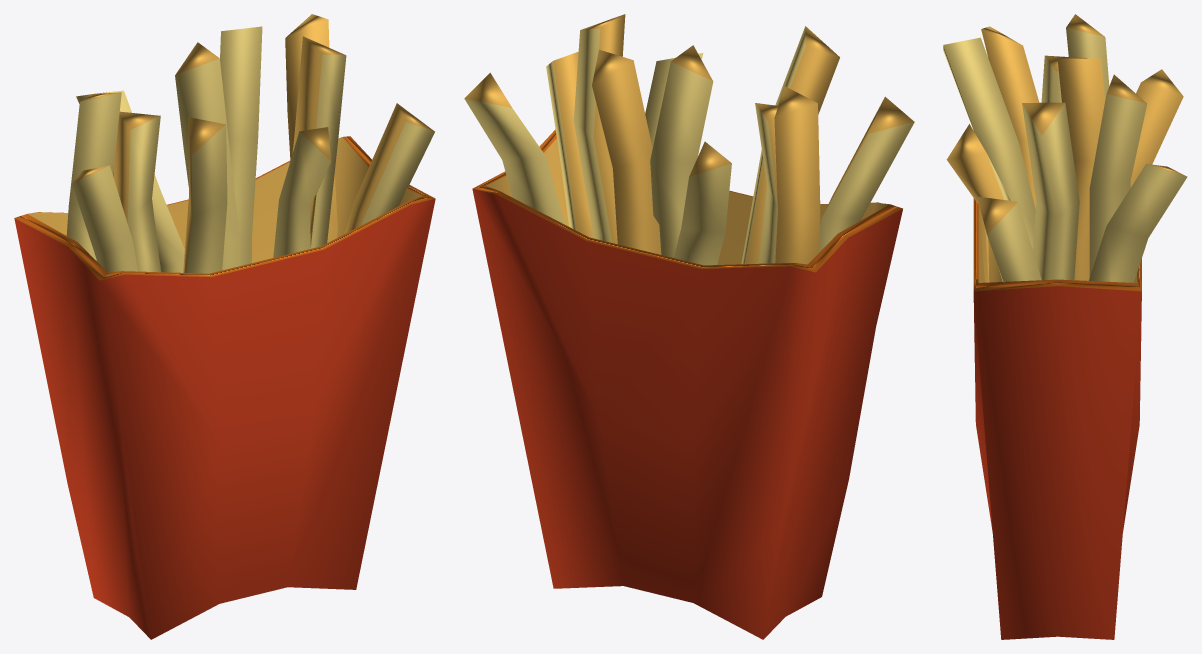
File: Fries.glb
3 renders of one model, left to right at view 1: azimuth 30°, elevation 25°; view 2: azimuth 150°, elevation 25°; view 3: azimuth 270°, elevation 25°, orthographic. The views are drawn at different scales.
Visible parts, largest first — view 1: fries; view 2: fries; view 3: fries.
Boxes of the visible parts, x1=… form: fries: x1=14, y1=14, x2=435, y2=639; fries: x1=464, y1=14, x2=914, y2=639; fries: x1=943, y1=14, x2=1187, y2=639.
Bounding box in the file's own units: 2.15 × 3.05 × 1.28.
1 material, 1 textured.
